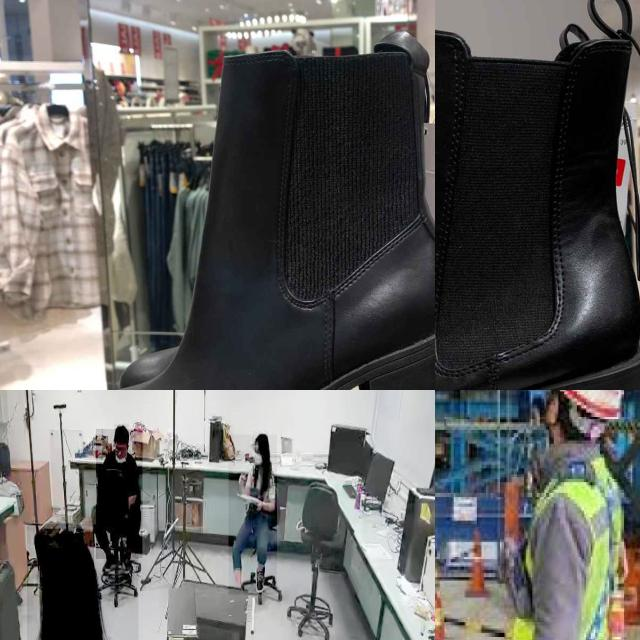Sandals: (21, 0, 435, 390), (435, 0, 640, 390)
face_mask: (253, 445, 265, 473)
face_nomask: (115, 444, 126, 465)
glasses: (114, 442, 128, 456)
hand_noglove: (238, 472, 246, 488), (256, 498, 264, 512)
head_nohelmet: (38, 529, 94, 571), (253, 431, 269, 446), (114, 424, 130, 438)
person: (27, 524, 139, 640), (228, 434, 278, 596), (96, 429, 143, 559)
shoes: (253, 566, 268, 596), (101, 550, 118, 576), (120, 549, 134, 575)
